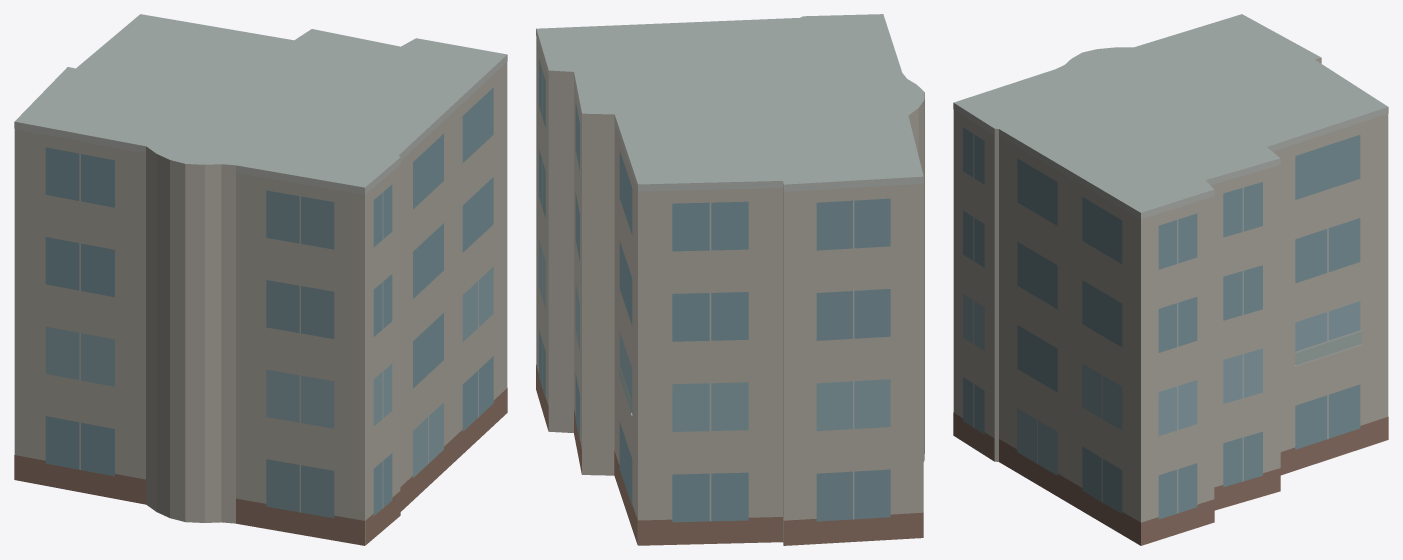
The model's file is survey-upis-32625116.glb.
3 views of the same model, side by side, from view 1: azimuth 30°, elevation 25°; view 2: azimuth 150°, elevation 25°; view 3: azimuth 270°, elevation 25° (orthographic). The views are drawn at different scales.
Visible parts, largest first — view 1: survey-upis-32625116.tmp; view 2: survey-upis-32625116.tmp; view 3: survey-upis-32625116.tmp.
Boxes of the visible parts, <box> form: survey-upis-32625116.tmp: <box>14,14,507,545</box>; survey-upis-32625116.tmp: <box>536,14,924,545</box>; survey-upis-32625116.tmp: <box>953,14,1388,545</box>.
Bounding box in the file's own units: 15.64 × 12.2 × 14.45.
